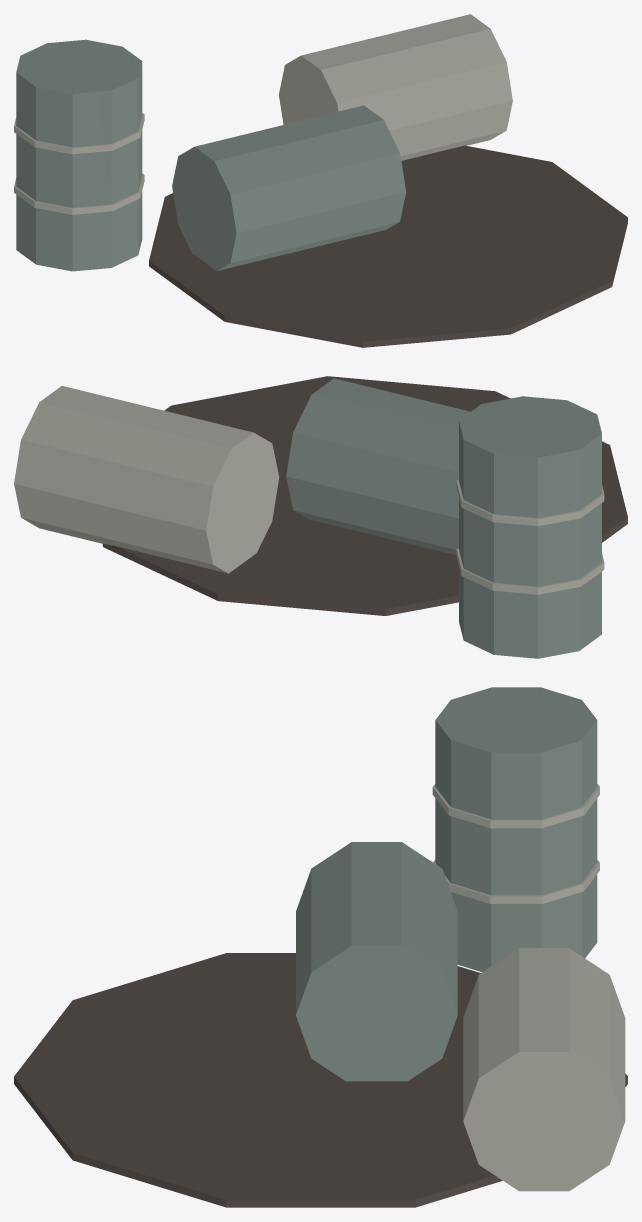
Rendered from SM_Bidones_v4_Volcados_LOD0.fbx.
3 renders of one model, top to bottom at view 1: azimuth 30°, elevation 25°; view 2: azimuth 150°, elevation 25°; view 3: azimuth 270°, elevation 25°, orthographic. The views are drawn at different scales.
Visible parts, largest first — view 1: SM_sagunto_vivo_v4_LOD0; view 2: SM_sagunto_vivo_v4_LOD0; view 3: SM_sagunto_vivo_v4_LOD0.
Boxes of the visible parts, left/top/right/bottom form: SM_sagunto_vivo_v4_LOD0: left=14, top=14, right=627, bottom=347; SM_sagunto_vivo_v4_LOD0: left=14, top=376, right=627, bottom=658; SM_sagunto_vivo_v4_LOD0: left=14, top=687, right=627, bottom=1207.
Size of the model in its own units: 2.53 by 0.88 by 2.2.
